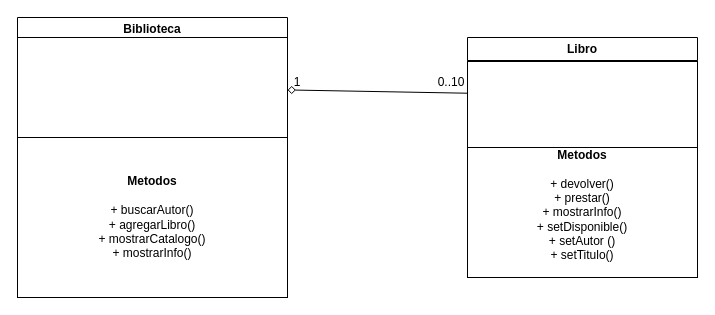
Image size: 715x315. Some labels were removed from this diagram. The centre of each missing label's shape, as x and y in pixels:
"Atributos - nombre : String - catalago : Libro[] - cantidad : int" belongs at (152,87).
"Atributos - titulo : String - autor : String - disponible : boolean" belongs at (582,104).
